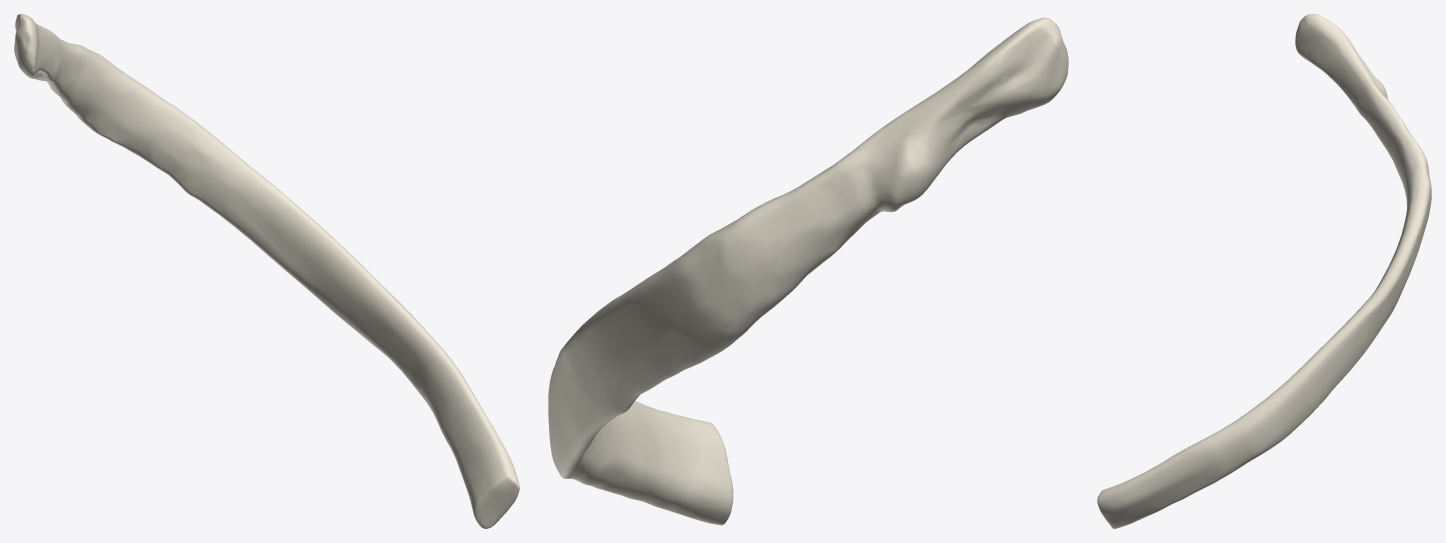
File: fma8472_fj3225.glb
3 renders of one model, left to right at view 1: azimuth 30°, elevation 25°; view 2: azimuth 150°, elevation 25°; view 3: azimuth 270°, elevation 25°, orthographic. The views are drawn at different scales.
Visible parts, largest first — view 1: FMA8472_FJ3225; view 2: FMA8472_FJ3225; view 3: FMA8472_FJ3225.
Part boxes in pixels (bbox=[...]): FMA8472_FJ3225: bbox=[14, 14, 519, 528]; FMA8472_FJ3225: bbox=[548, 17, 1068, 525]; FMA8472_FJ3225: bbox=[1097, 14, 1431, 528].
Size of the model in its own units: 0.1068 by 0.136 by 0.1064.
